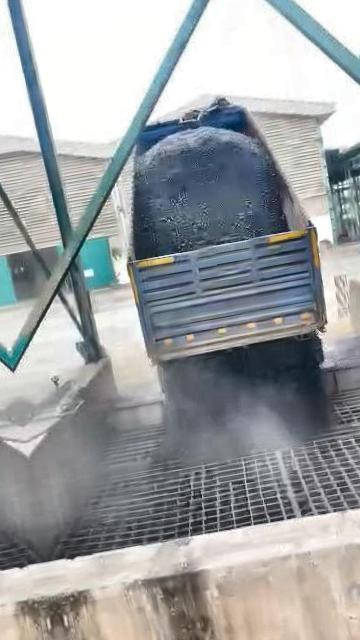gravel: (133, 123, 286, 257), (163, 334, 327, 450), (324, 330, 360, 367)
